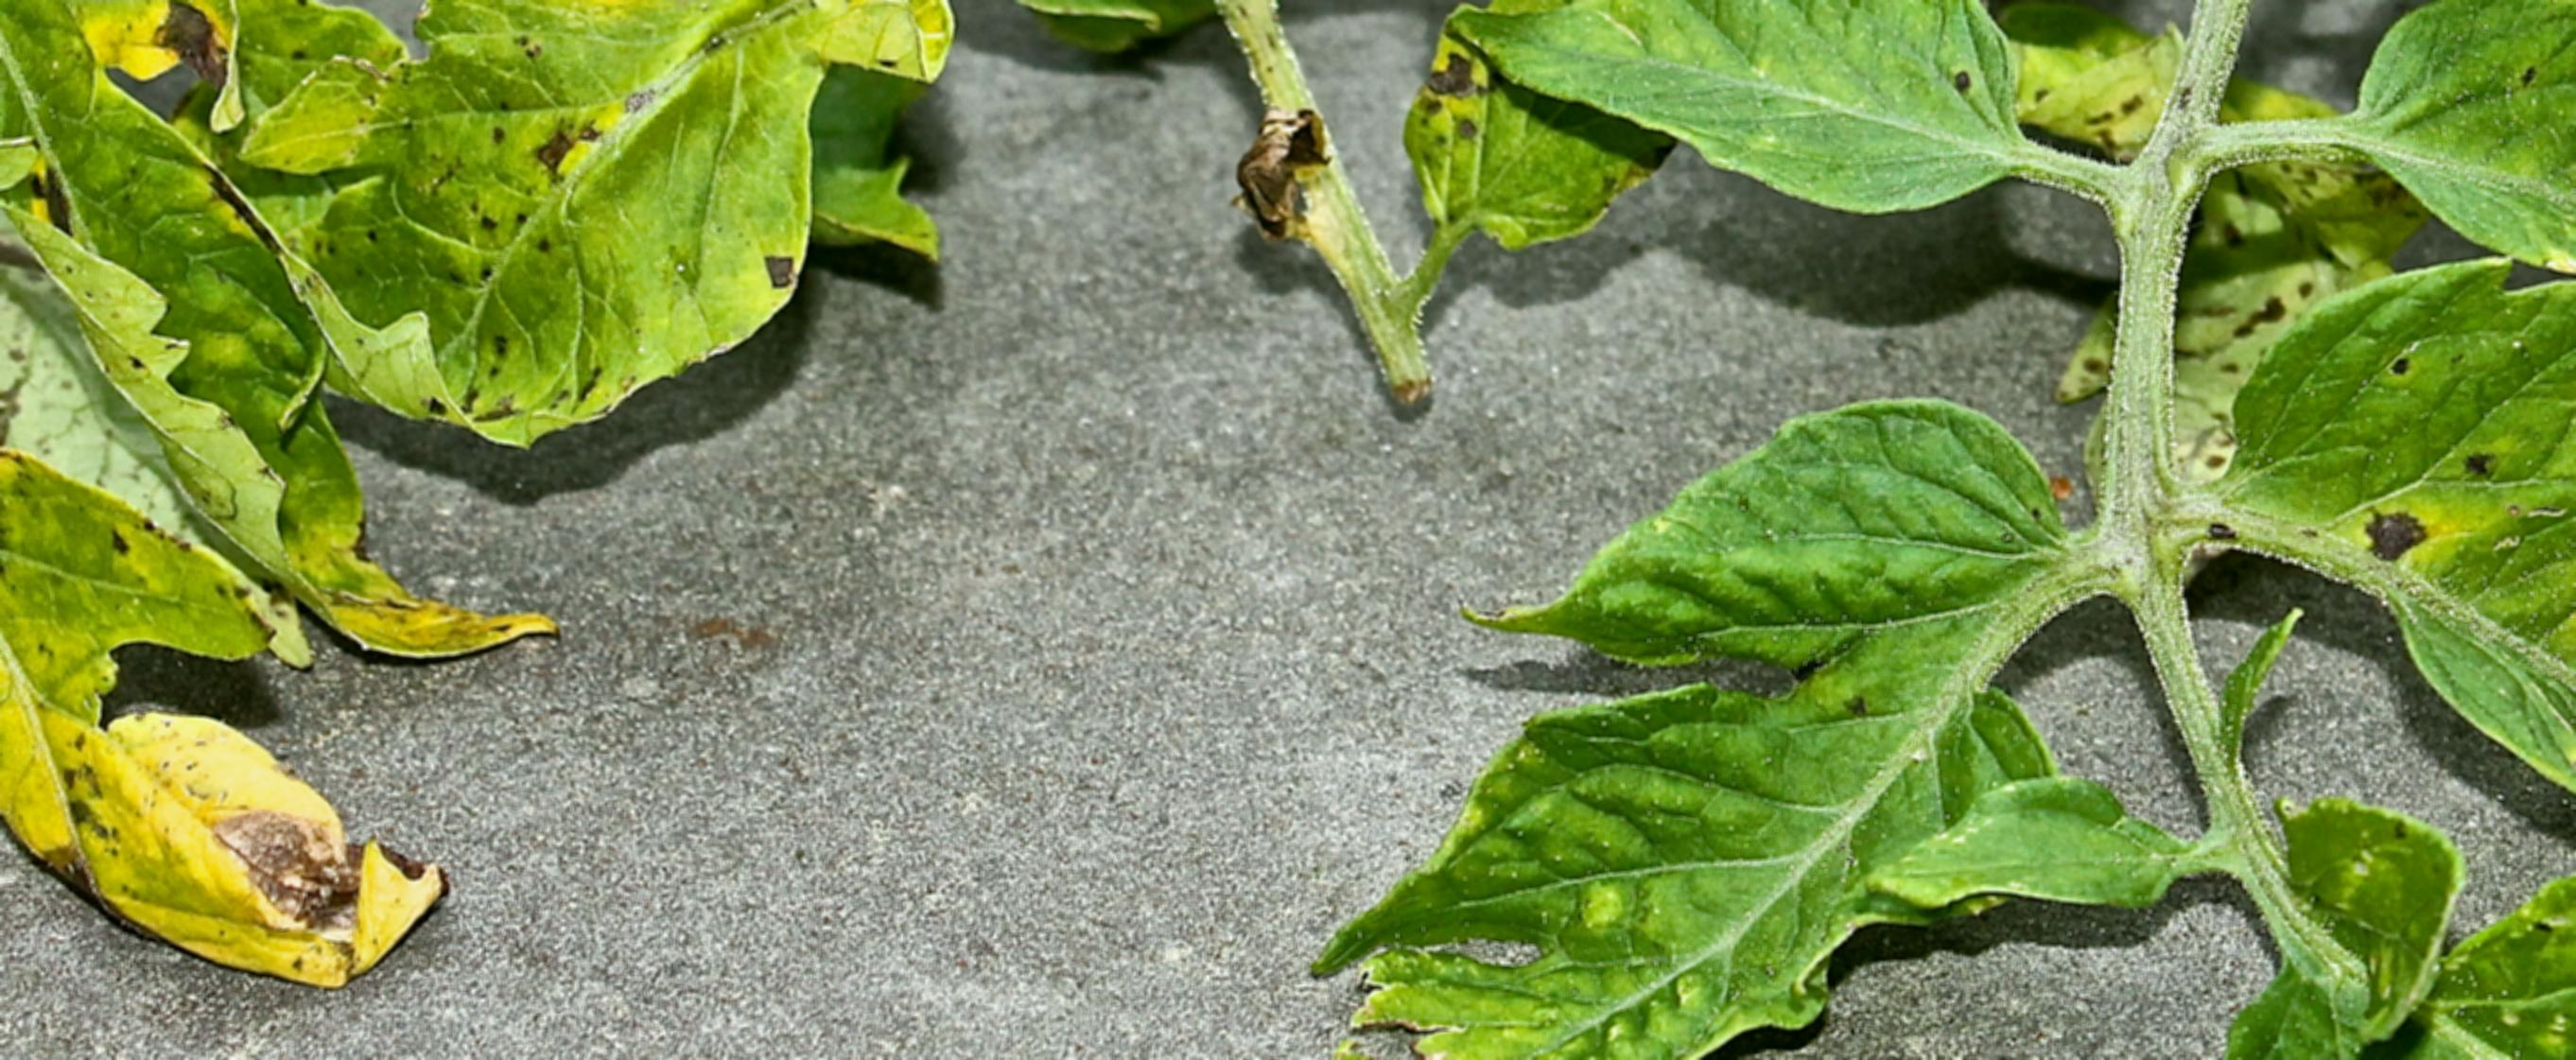Tomato Septoria leaf spot: (1191, 436, 2113, 1060), (314, 0, 1068, 419), (0, 299, 457, 981), (2195, 274, 2576, 876)
